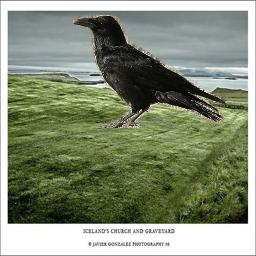Crow: (73, 15, 226, 128)
